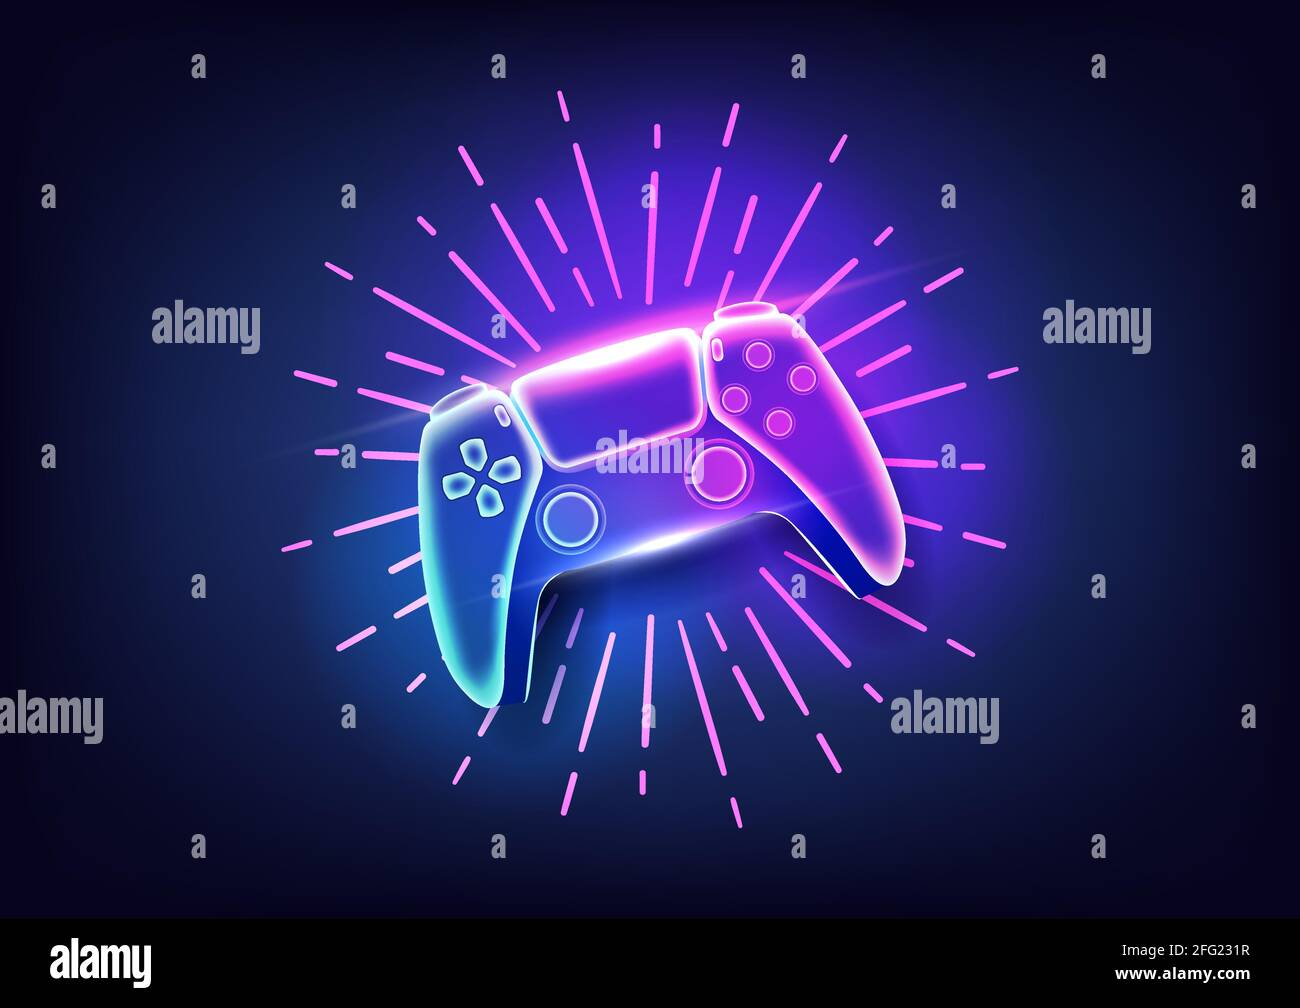controller: (416, 301, 909, 711)
